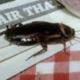cockroach: (4, 20, 76, 48)
